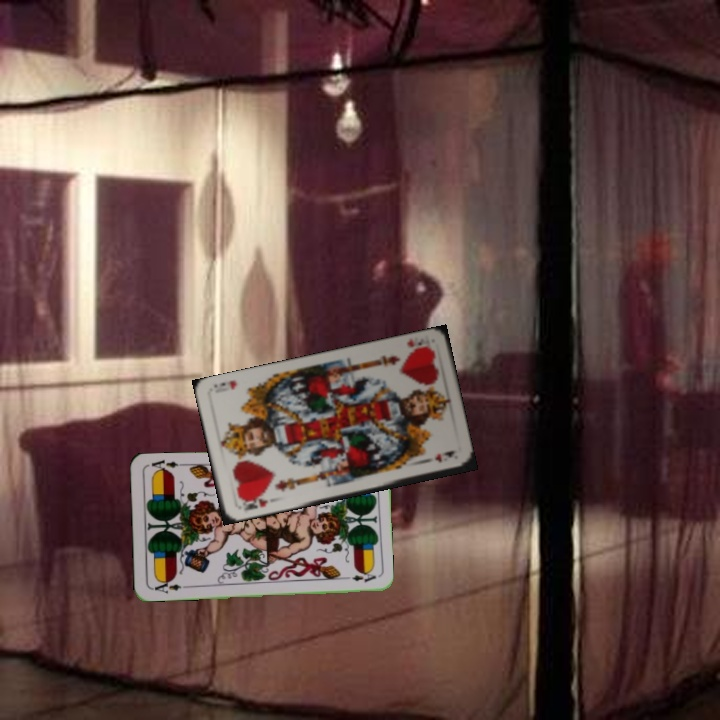EA: (148, 576, 189, 596)
HK: (237, 491, 271, 513), (403, 335, 433, 350)
